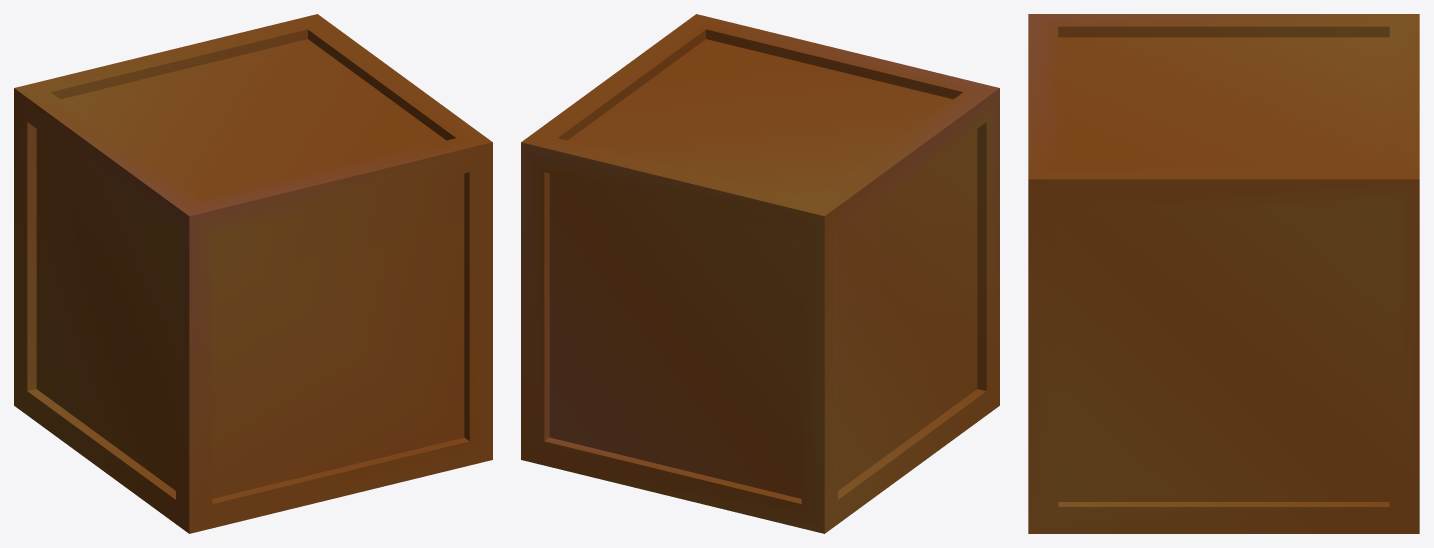
File: chest.fbx
3 views of the same model, side by side, from view 1: azimuth 30°, elevation 25°; view 2: azimuth 150°, elevation 25°; view 3: azimuth 270°, elevation 25° (orthographic). The views are drawn at different scales.
Visible parts, largest first — view 1: chest; view 2: chest; view 3: chest.
Boxes of the visible parts, box(x1,y1,x2,y2) form: chest: box(14, 14, 492, 533); chest: box(521, 14, 999, 533); chest: box(1028, 14, 1419, 533).
Size of the model in its own units: 100 by 100 by 100.
